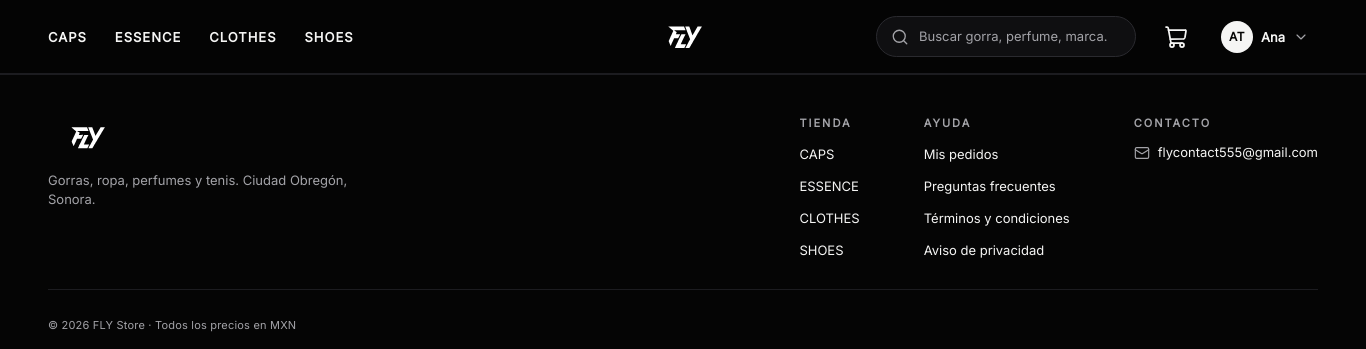
Scenario: Header › menú de cuenta del cliente: Mi perfil y Mis pedidos; se cierra con Esc y devuelve el foco
Click the button "AT Ana" at (1267, 36), box [1216, 16, 1318, 56]
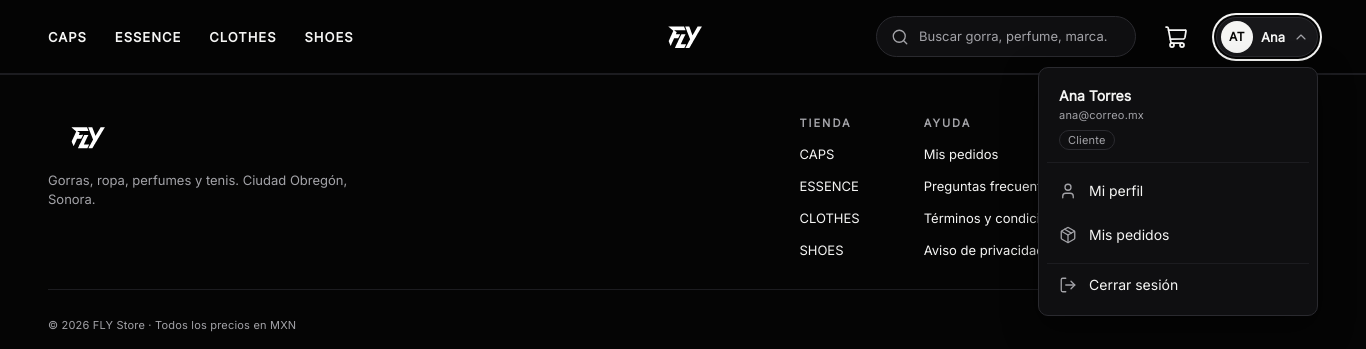
expect the button "AT Ana" is expanded: met, box [1216, 16, 1318, 56]
Press Escape
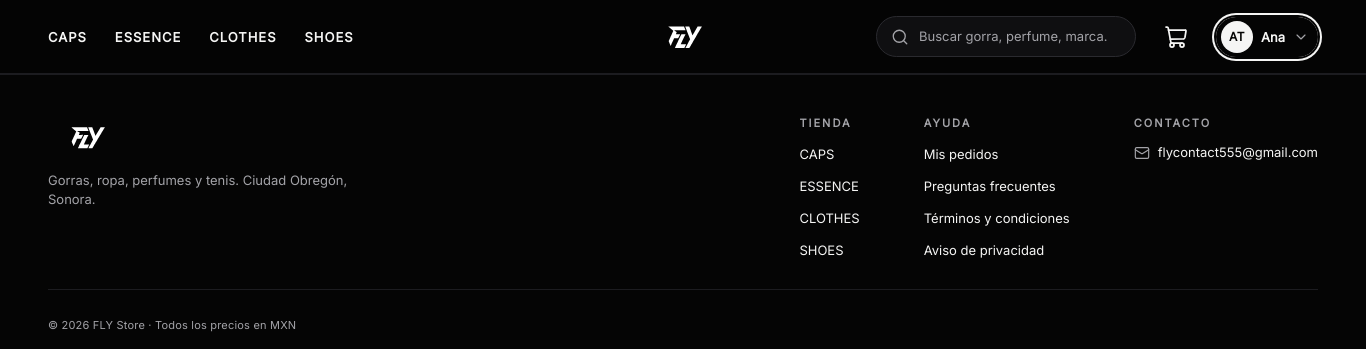
expect the button "AT Ana" is collapsed: met, box [1216, 16, 1318, 56]
